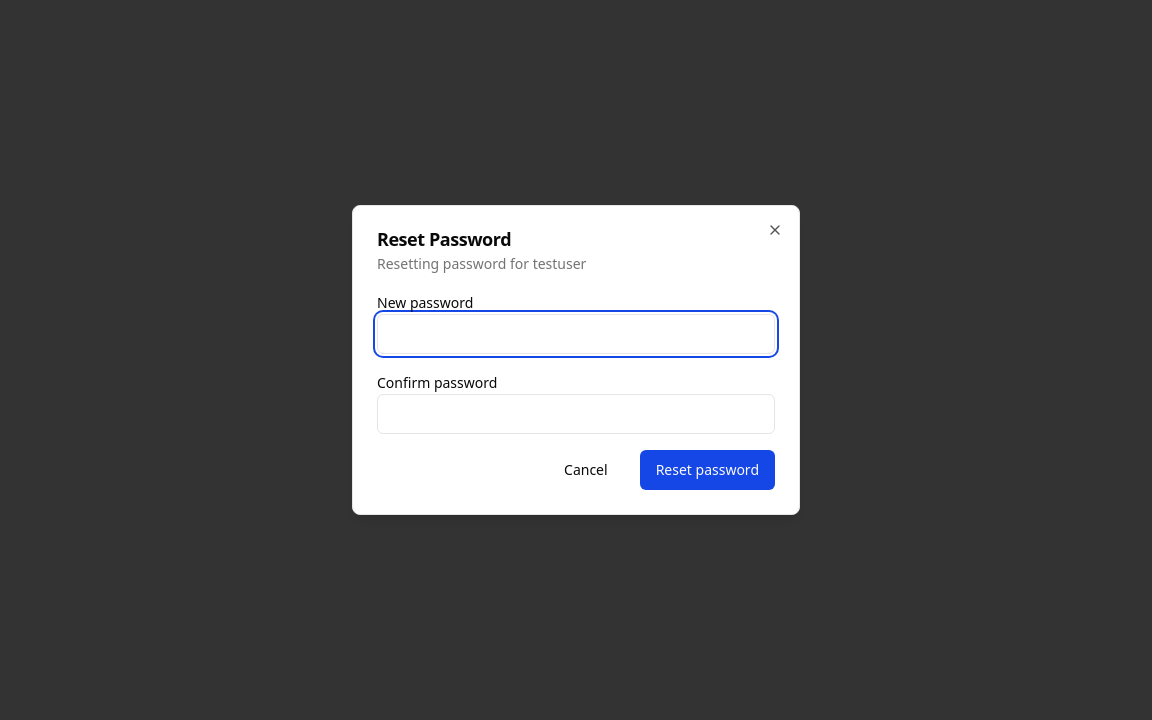
ResetPasswordDialog › shows "Password must be at least 8 characters." for short password
Type "short" into the password field labelled "New password" at (576, 334), box [377, 314, 775, 354]
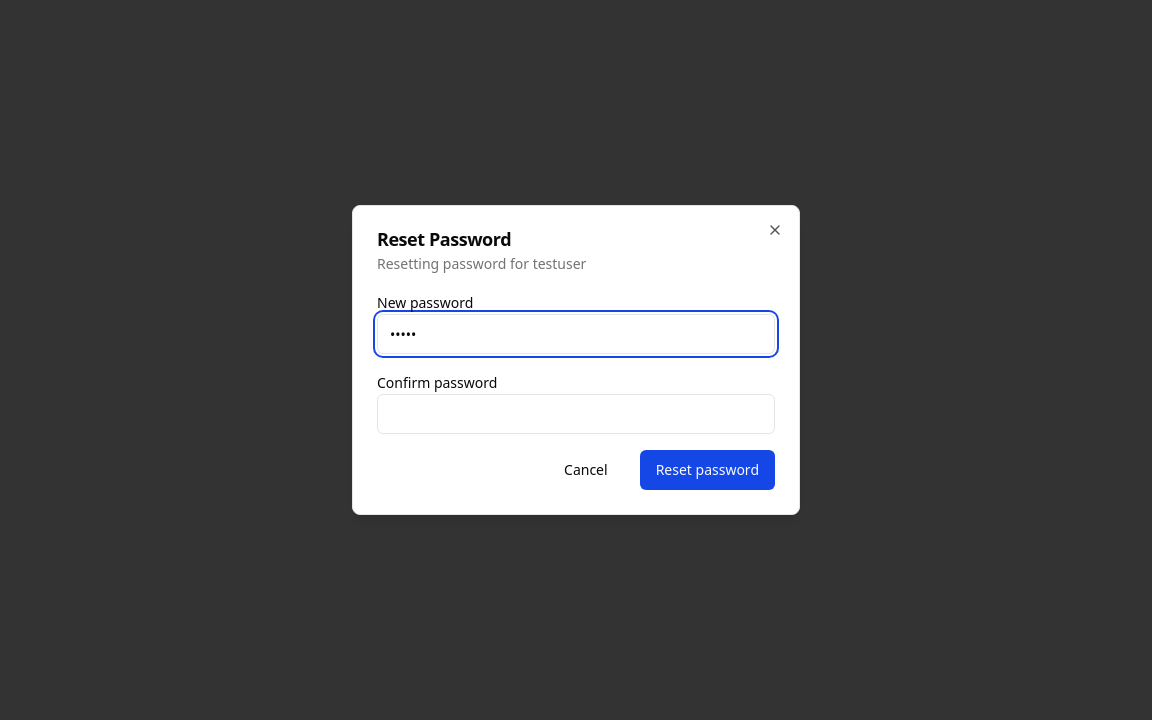
Type "short" into the password field labelled "Confirm password" at (576, 414), box [377, 394, 775, 434]
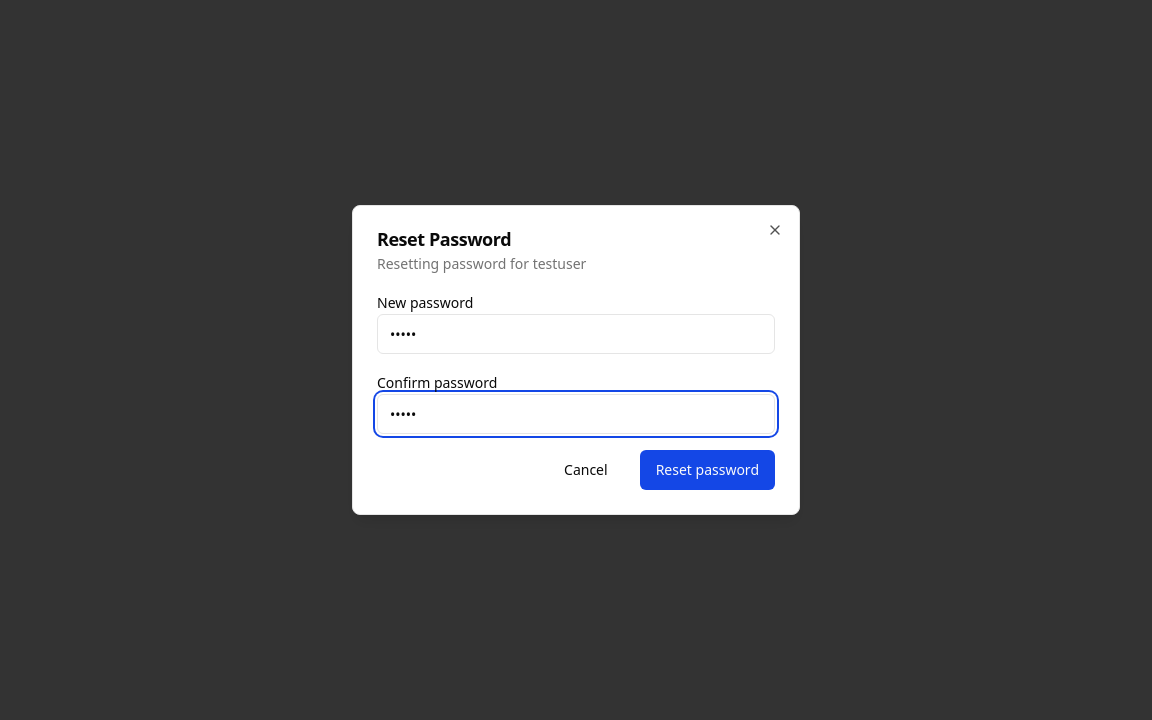
Click the button "Reset password" at (707, 470), box [640, 450, 775, 490]
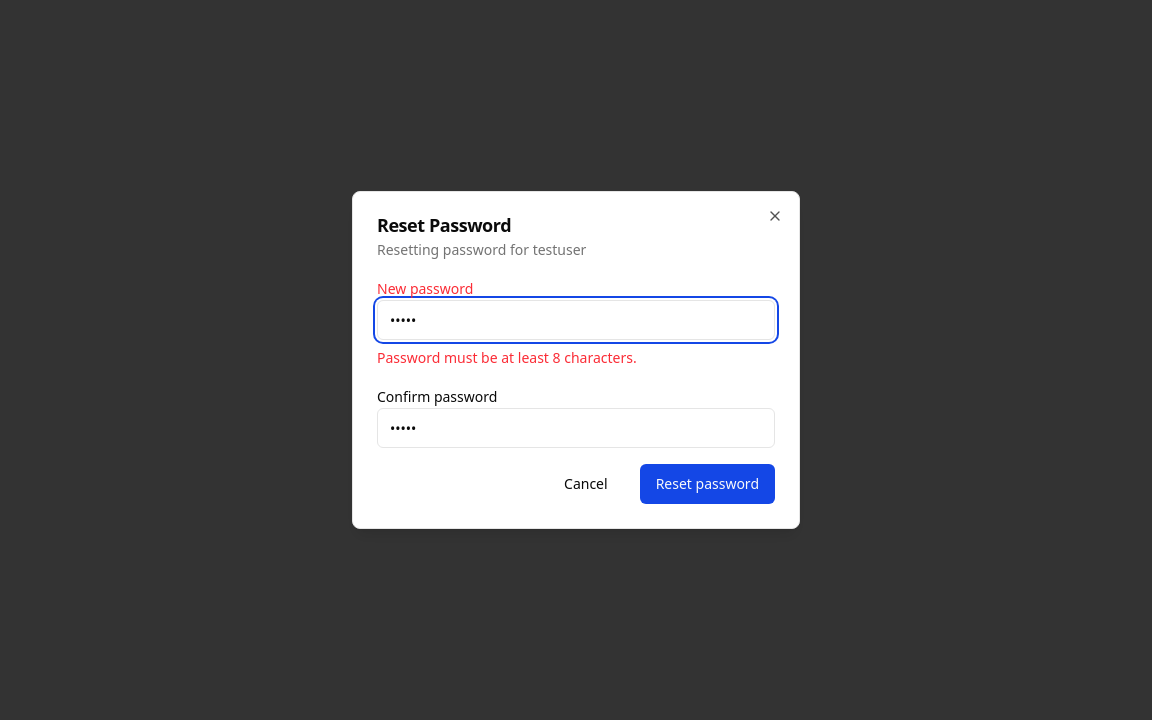
Expected: the text "Password must be at least 8 characters." is shown, [377, 348, 637, 367]
